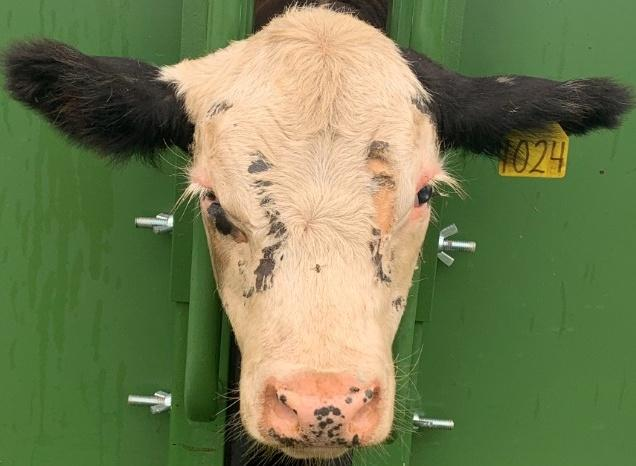muzzles: (233, 366, 401, 462)
